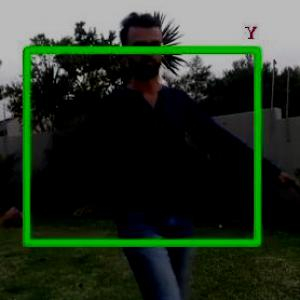land: (73, 76, 229, 266)
